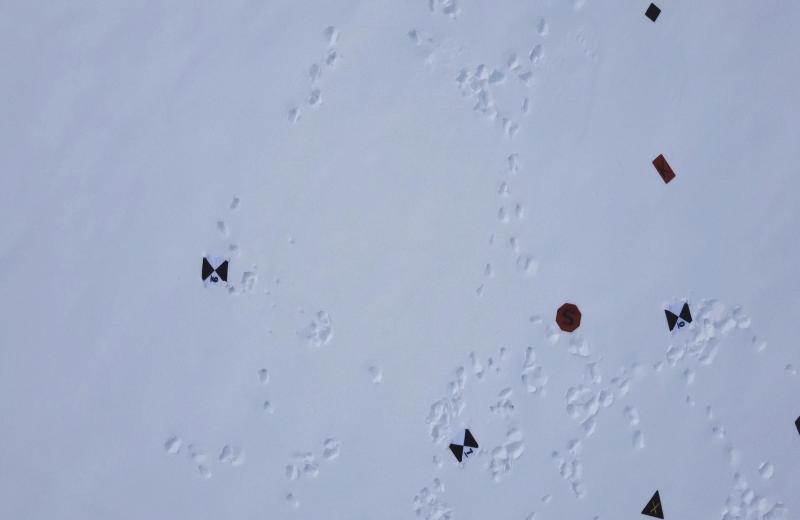Octagon: (556, 299, 584, 335)
Rectangle: (650, 153, 676, 185)
Square: (644, 0, 664, 25)
Triangle: (641, 486, 667, 520)
